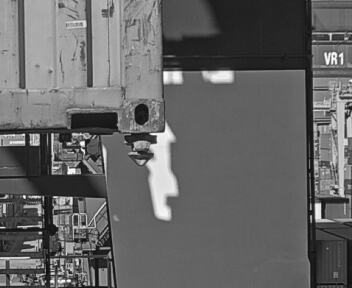twist_lock_2: (178, 58, 229, 103)
